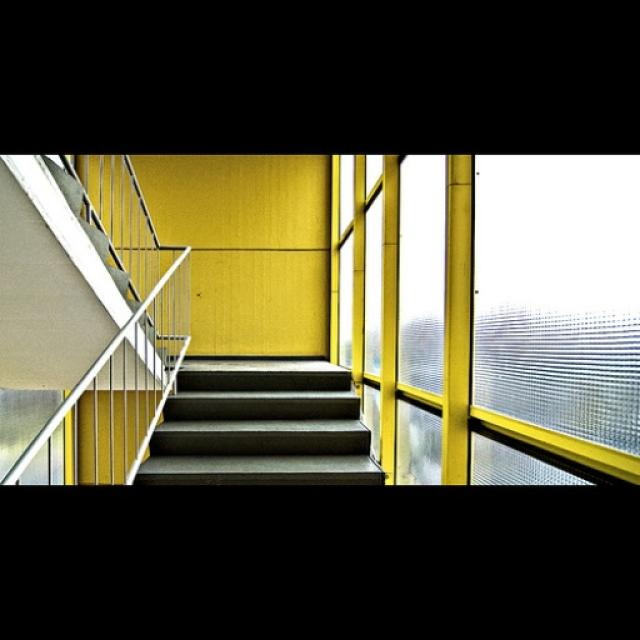stair: (134, 358, 384, 484)
